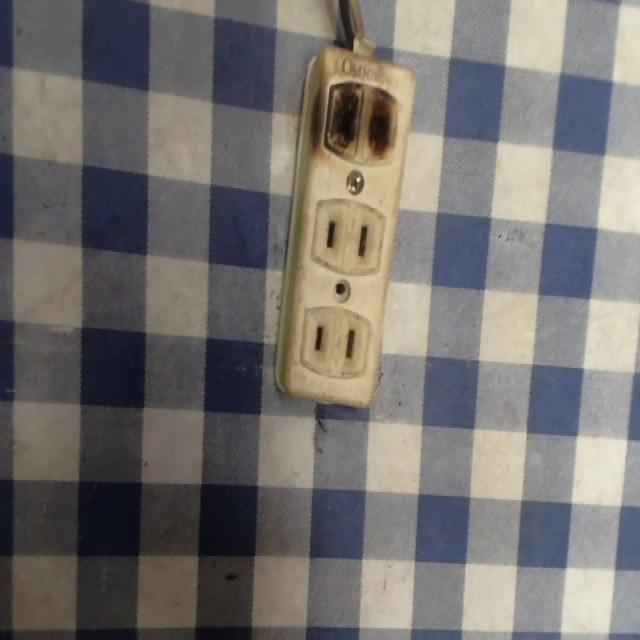-: (322, 71, 399, 164)
